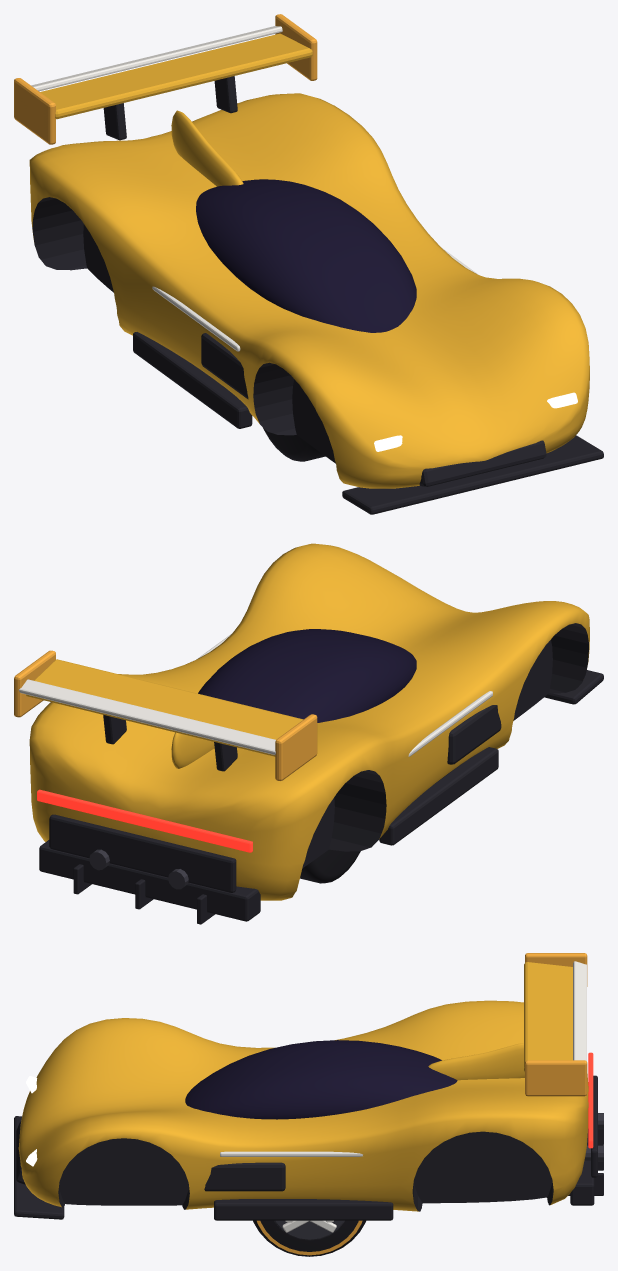
The model's file is voiture.glb.
The picture shows the model from 3 angles, top to bottom: view 1: azimuth 30°, elevation 25°; view 2: azimuth 150°, elevation 25°; view 3: azimuth 270°, elevation 25°; orthographic projection. The views are drawn at different scales.
Visible parts, largest first — view 1: Caisse, RoueArriere; view 2: Caisse, RoueArriere; view 3: Caisse, RoueArriere.
Boxes of the visible parts, bbox=[...] form: Caisse: bbox=[14, 14, 603, 514]; RoueArriere: bbox=[263, 428, 325, 461]; Caisse: bbox=[14, 543, 603, 924]; RoueArriere: bbox=[300, 849, 360, 883]; Caisse: bbox=[14, 953, 603, 1220]; RoueArriere: bbox=[253, 1220, 365, 1256].
Size of the model in its own units: 2.34 by 2.21 by 4.93.
